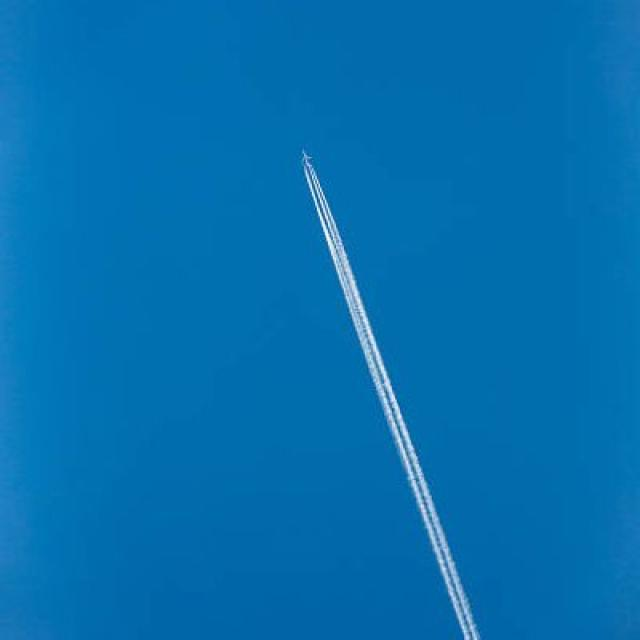Ct: (1, 131, 640, 593)
